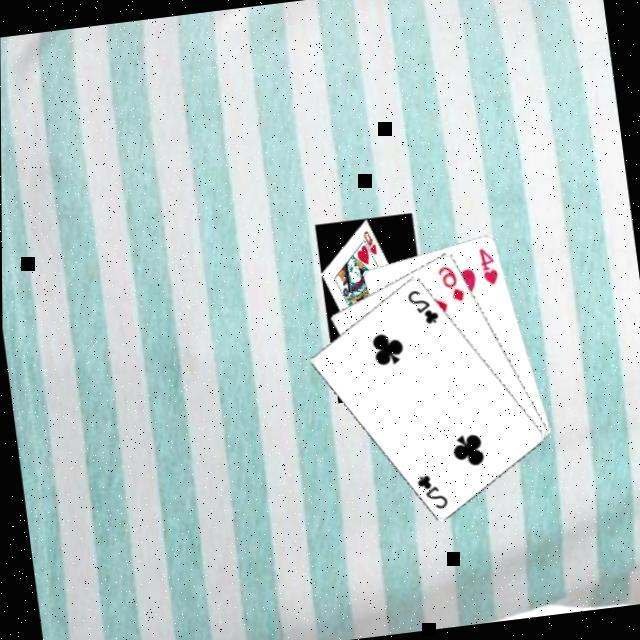2C: (412, 470, 452, 516), (403, 286, 442, 330)
4H: (476, 244, 502, 288)
6D: (435, 262, 468, 307)
